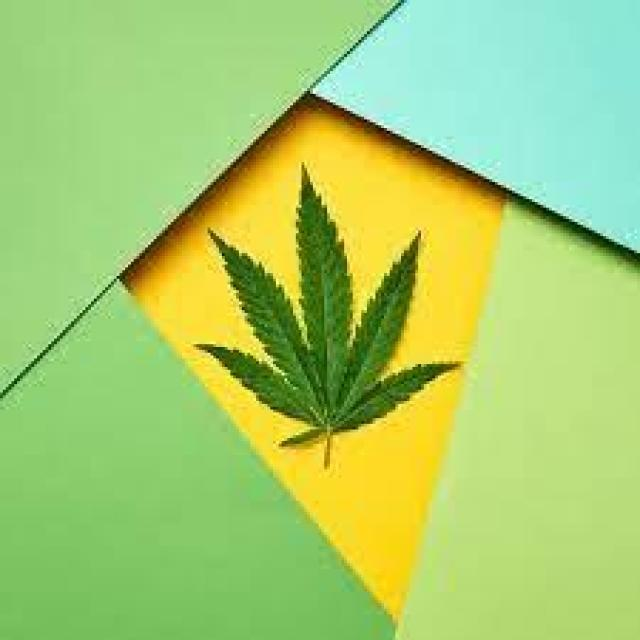cannabis: (193, 169, 459, 474)
